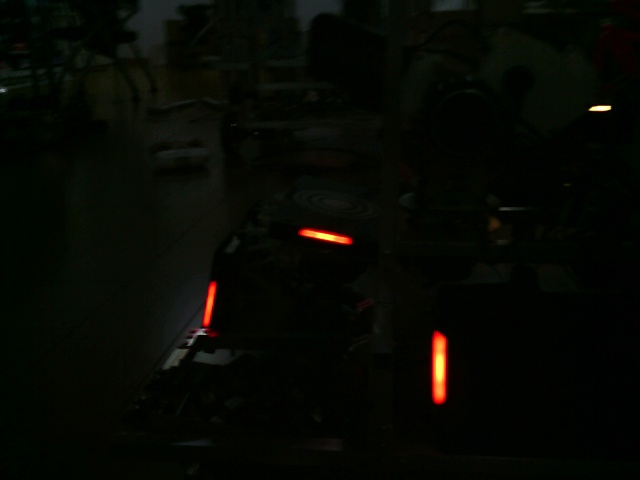lamp: (426, 329, 452, 406), (202, 280, 218, 326)
